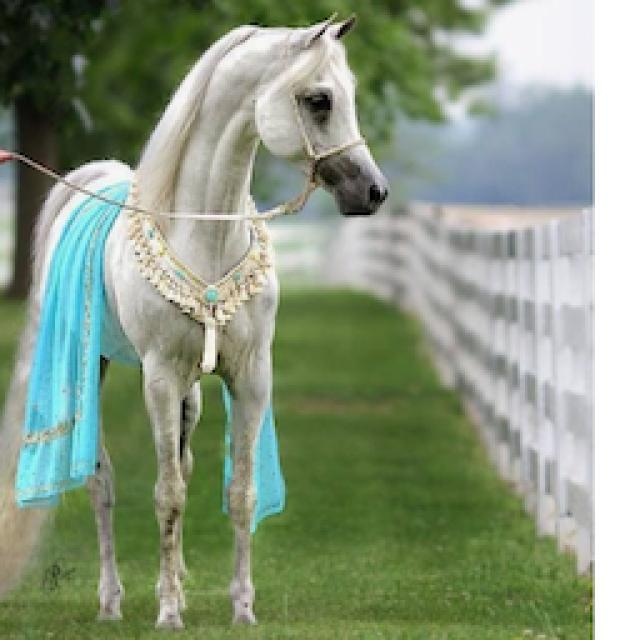Horse: (0, 10, 392, 635)
